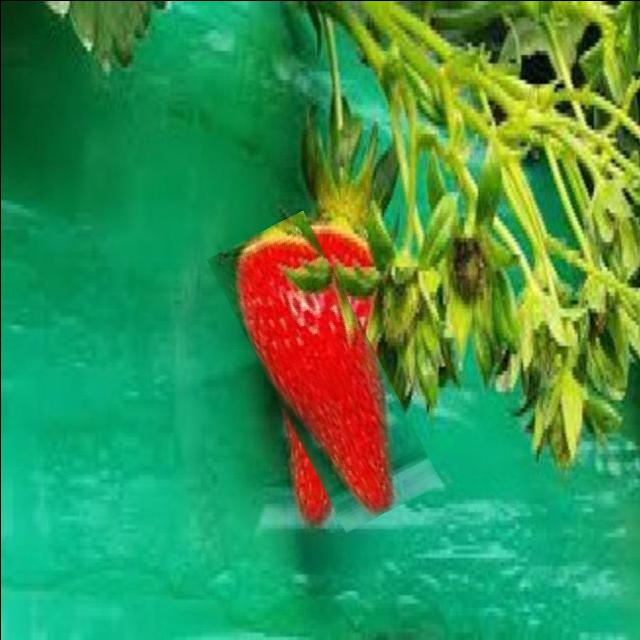strawberry: (238, 213, 410, 528)
